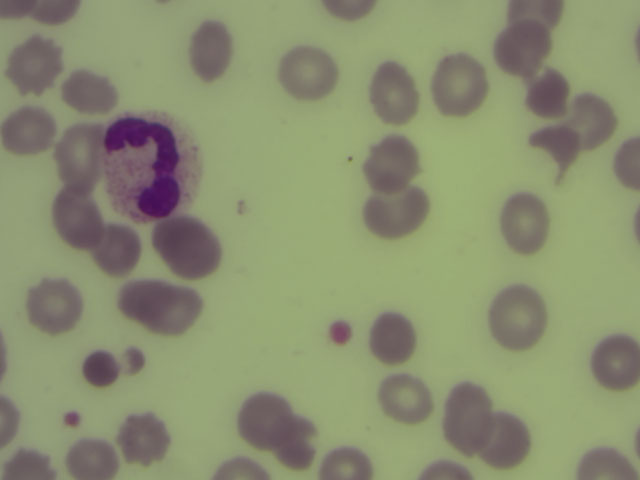Platelets: (324, 315, 355, 349), (57, 405, 87, 433)
RBC: (440, 381, 489, 455), (126, 279, 192, 331), (57, 124, 103, 191), (570, 438, 640, 480), (492, 292, 545, 344), (587, 336, 640, 388), (476, 414, 529, 466), (380, 371, 433, 423), (366, 313, 419, 365), (498, 197, 551, 249), (368, 189, 421, 241), (364, 137, 417, 189), (565, 94, 618, 146), (495, 24, 548, 76), (431, 57, 484, 109), (365, 67, 418, 119), (280, 45, 333, 97), (184, 21, 237, 73), (116, 413, 169, 465), (27, 279, 80, 331), (160, 221, 213, 273), (86, 223, 139, 275), (48, 188, 101, 240), (6, 40, 59, 92), (1, 106, 53, 158), (239, 393, 288, 445), (523, 69, 572, 116), (64, 438, 119, 479), (271, 417, 315, 464), (64, 71, 115, 111), (321, 441, 372, 480), (1, 446, 55, 480), (608, 136, 640, 192), (507, 1, 560, 26)
WBC: (100, 111, 202, 220)
